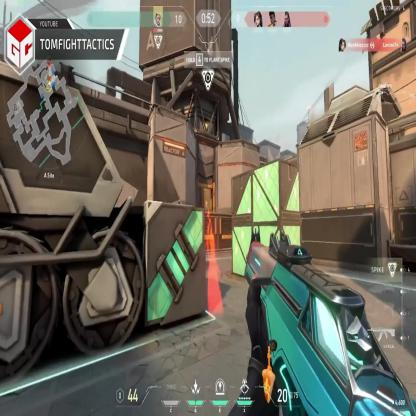enemy: (204, 200, 209, 212)
enemy_head: (206, 200, 206, 203)
